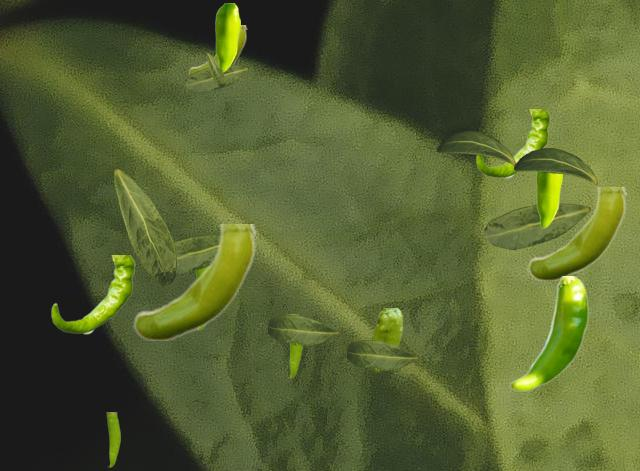green_chili: (132, 224, 256, 339), (527, 187, 626, 279), (509, 276, 588, 391), (51, 255, 134, 333), (476, 109, 549, 177), (188, 25, 246, 74), (370, 308, 401, 371), (215, 3, 239, 71), (536, 172, 561, 227), (286, 314, 301, 377), (106, 412, 119, 466), (195, 269, 202, 329)
